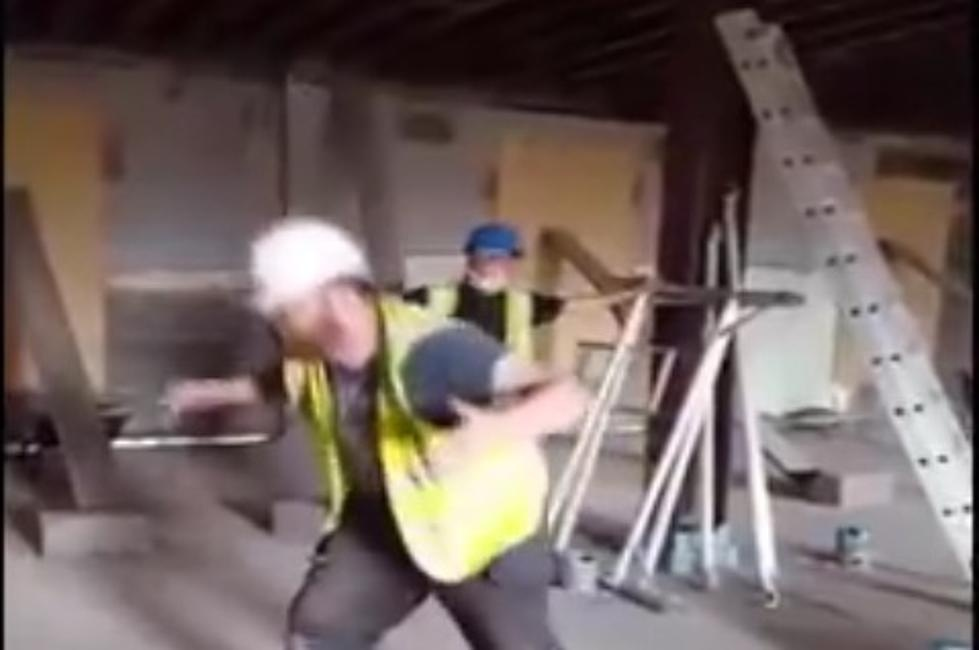blue: (453, 217, 523, 294)
white: (240, 209, 379, 364)
